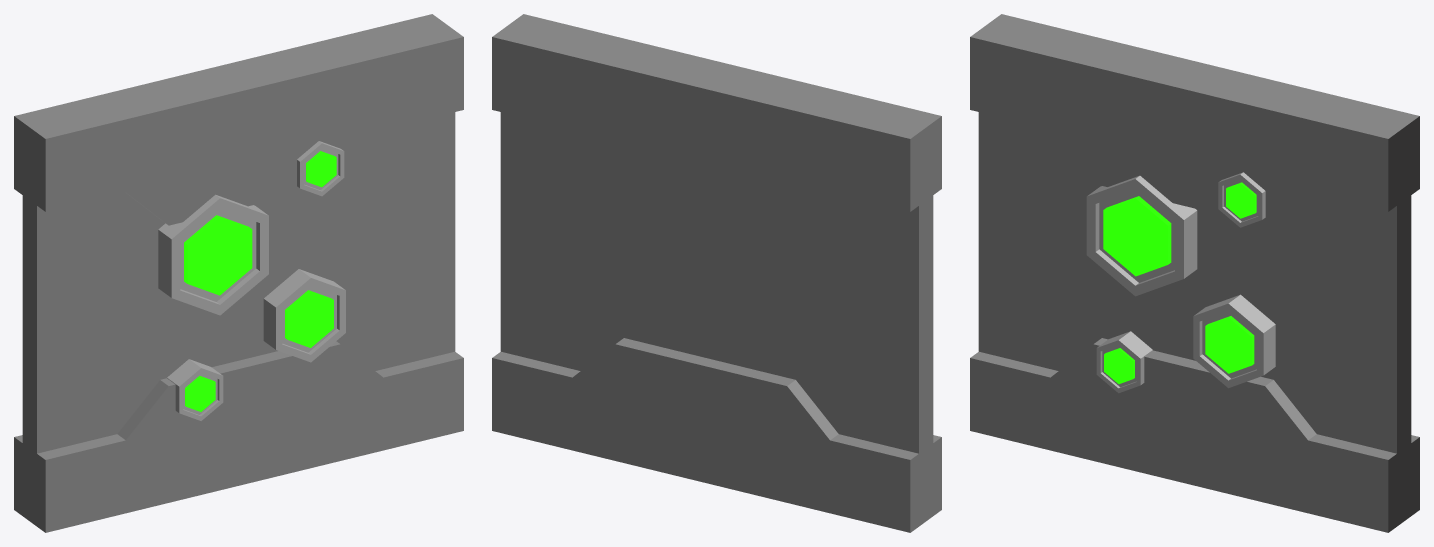
File: Wall.fbx
3 views of the same model, side by side, from view 1: azimuth 30°, elevation 25°; view 2: azimuth 150°, elevation 25°; view 3: azimuth 330°, elevation 25° (orthographic).
Parts seen in each view (by area): view 1: Wall; view 2: Wall; view 3: Wall.
Boxes of the visible parts, x1=… form: Wall: x1=14, y1=14, x2=463, y2=532; Wall: x1=492, y1=14, x2=941, y2=532; Wall: x1=970, y1=14, x2=1419, y2=532.
Bounding box in the file's own units: 10 × 9 × 1.5.
